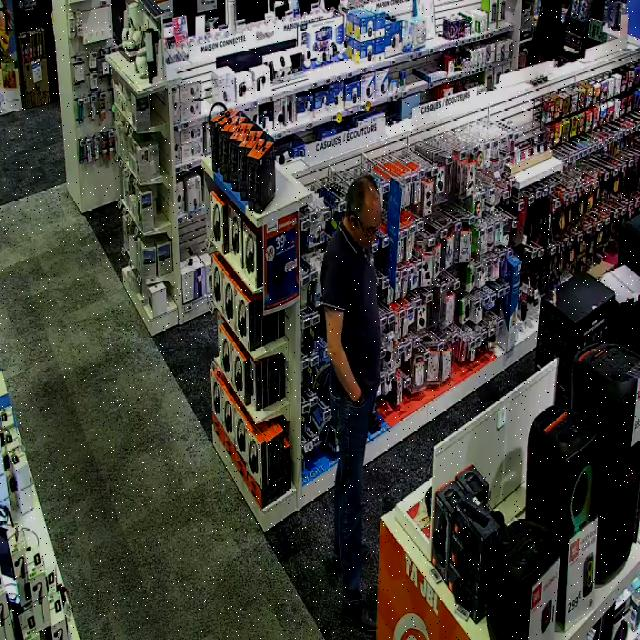person: (321, 176, 381, 633)
